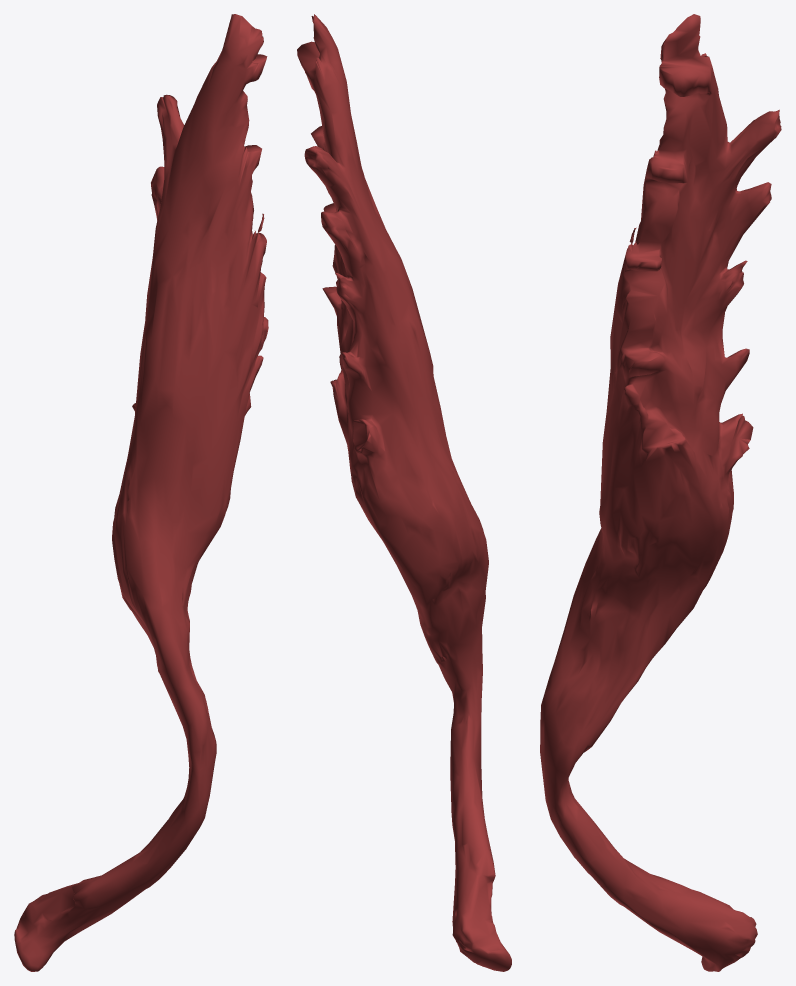
File: psoas-major-r.glb
3 renders of one model, left to right at view 1: azimuth 30°, elevation 25°; view 2: azimuth 150°, elevation 25°; view 3: azimuth 270°, elevation 25°, orthographic. The views are drawn at different scales.
Parts seen in each view (by area): view 1: Psoas major.r; view 2: Psoas major.r; view 3: Psoas major.r.
Boxes of the visible parts, left/top/right/bottom form: Psoas major.r: left=14, top=14, right=268, bottom=971; Psoas major.r: left=297, top=14, right=511, bottom=971; Psoas major.r: left=540, top=14, right=781, bottom=971.
Size of the model in its own units: 0.0998 by 0.3799 by 0.0781.
